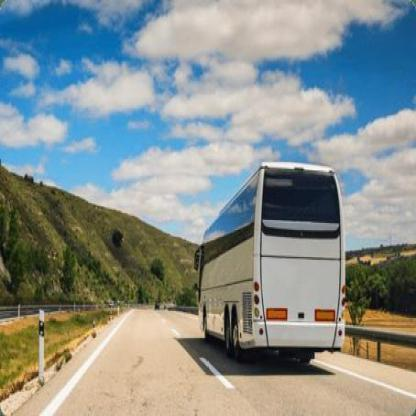Bus: (197, 146, 350, 379)
